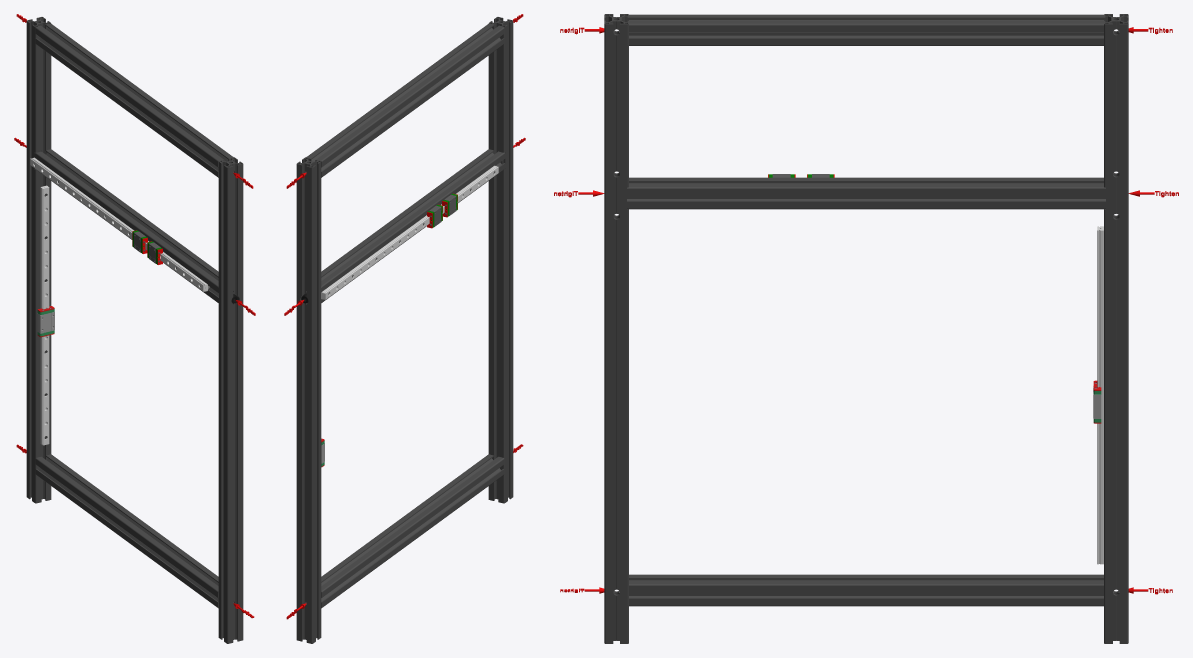
The picture shows the model from 3 angles, left to right: view 1: azimuth 30°, elevation 25°; view 2: azimuth 150°, elevation 25°; view 3: azimuth 270°, elevation 25°; orthographic projection. The views are drawn at different scales.
Visible parts, largest first — view 1: 01_01__XP__Alu_3030_Pillar___V2.0 v24, 01_01__XP__Alu_3030_Pillar___V2.0 v025, 01_03__XP__Alu_3030_Beam_2___V1.0 v7, 01_03__XP__Alu_3030_Beam_2___V1.0 v008, 01_02__XP__Alu_3030_Beam_1___V1.0 v14, MGNR12R450HM_FILE_2 v1, MGNR12R550HM_FILE_2 v3; view 2: 01_01__XP__Alu_3030_Pillar___V2.0 v025, 01_01__XP__Alu_3030_Pillar___V2.0 v24, 01_03__XP__Alu_3030_Beam_2___V1.0 v7, 01_03__XP__Alu_3030_Beam_2___V1.0 v008, 01_02__XP__Alu_3030_Beam_1___V1.0 v14, MGNR12R550HM_FILE_2 v3; view 3: 01_02__XP__Alu_3030_Beam_1___V1.0 v14, 01_03__XP__Alu_3030_Beam_2___V1.0 v008, 01_01__XP__Alu_3030_Pillar___V2.0 v24, 01_01__XP__Alu_3030_Pillar___V2.0 v025, 01_03__XP__Alu_3030_Beam_2___V1.0 v7, MGNR12R450HM_FILE_2 v1.
Boxes of the visible parts, x1,y1,x2,y2 form: 01_01__XP__Alu_3030_Pillar___V2.0 v24: (218, 157, 243, 643); 01_01__XP__Alu_3030_Pillar___V2.0 v025: (26, 17, 51, 503); 01_03__XP__Alu_3030_Beam_2___V1.0 v7: (35, 24, 233, 177); 01_03__XP__Alu_3030_Beam_2___V1.0 v008: (35, 454, 218, 608); 01_02__XP__Alu_3030_Beam_1___V1.0 v14: (34, 149, 218, 303); MGNR12R450HM_FILE_2 v1: (40, 185, 49, 445); MGNR12R550HM_FILE_2 v3: (30, 157, 207, 291); 01_01__XP__Alu_3030_Pillar___V2.0 v025: (296, 157, 321, 643); 01_01__XP__Alu_3030_Pillar___V2.0 v24: (488, 17, 513, 503); 01_03__XP__Alu_3030_Beam_2___V1.0 v7: (306, 24, 504, 177); 01_03__XP__Alu_3030_Beam_2___V1.0 v008: (321, 454, 504, 608); 01_02__XP__Alu_3030_Beam_1___V1.0 v14: (321, 149, 505, 303); MGNR12R550HM_FILE_2 v3: (321, 165, 498, 299); 01_02__XP__Alu_3030_Beam_1___V1.0 v14: (627, 177, 1105, 209); 01_03__XP__Alu_3030_Beam_2___V1.0 v008: (629, 574, 1103, 606); 01_01__XP__Alu_3030_Pillar___V2.0 v24: (604, 14, 628, 643); 01_01__XP__Alu_3030_Pillar___V2.0 v025: (1104, 14, 1128, 643); 01_03__XP__Alu_3030_Beam_2___V1.0 v7: (629, 14, 1103, 45); MGNR12R450HM_FILE_2 v1: (1097, 226, 1103, 564).
Bounding box in the file's own units: 0.043 × 0.835 × 0.7633.
